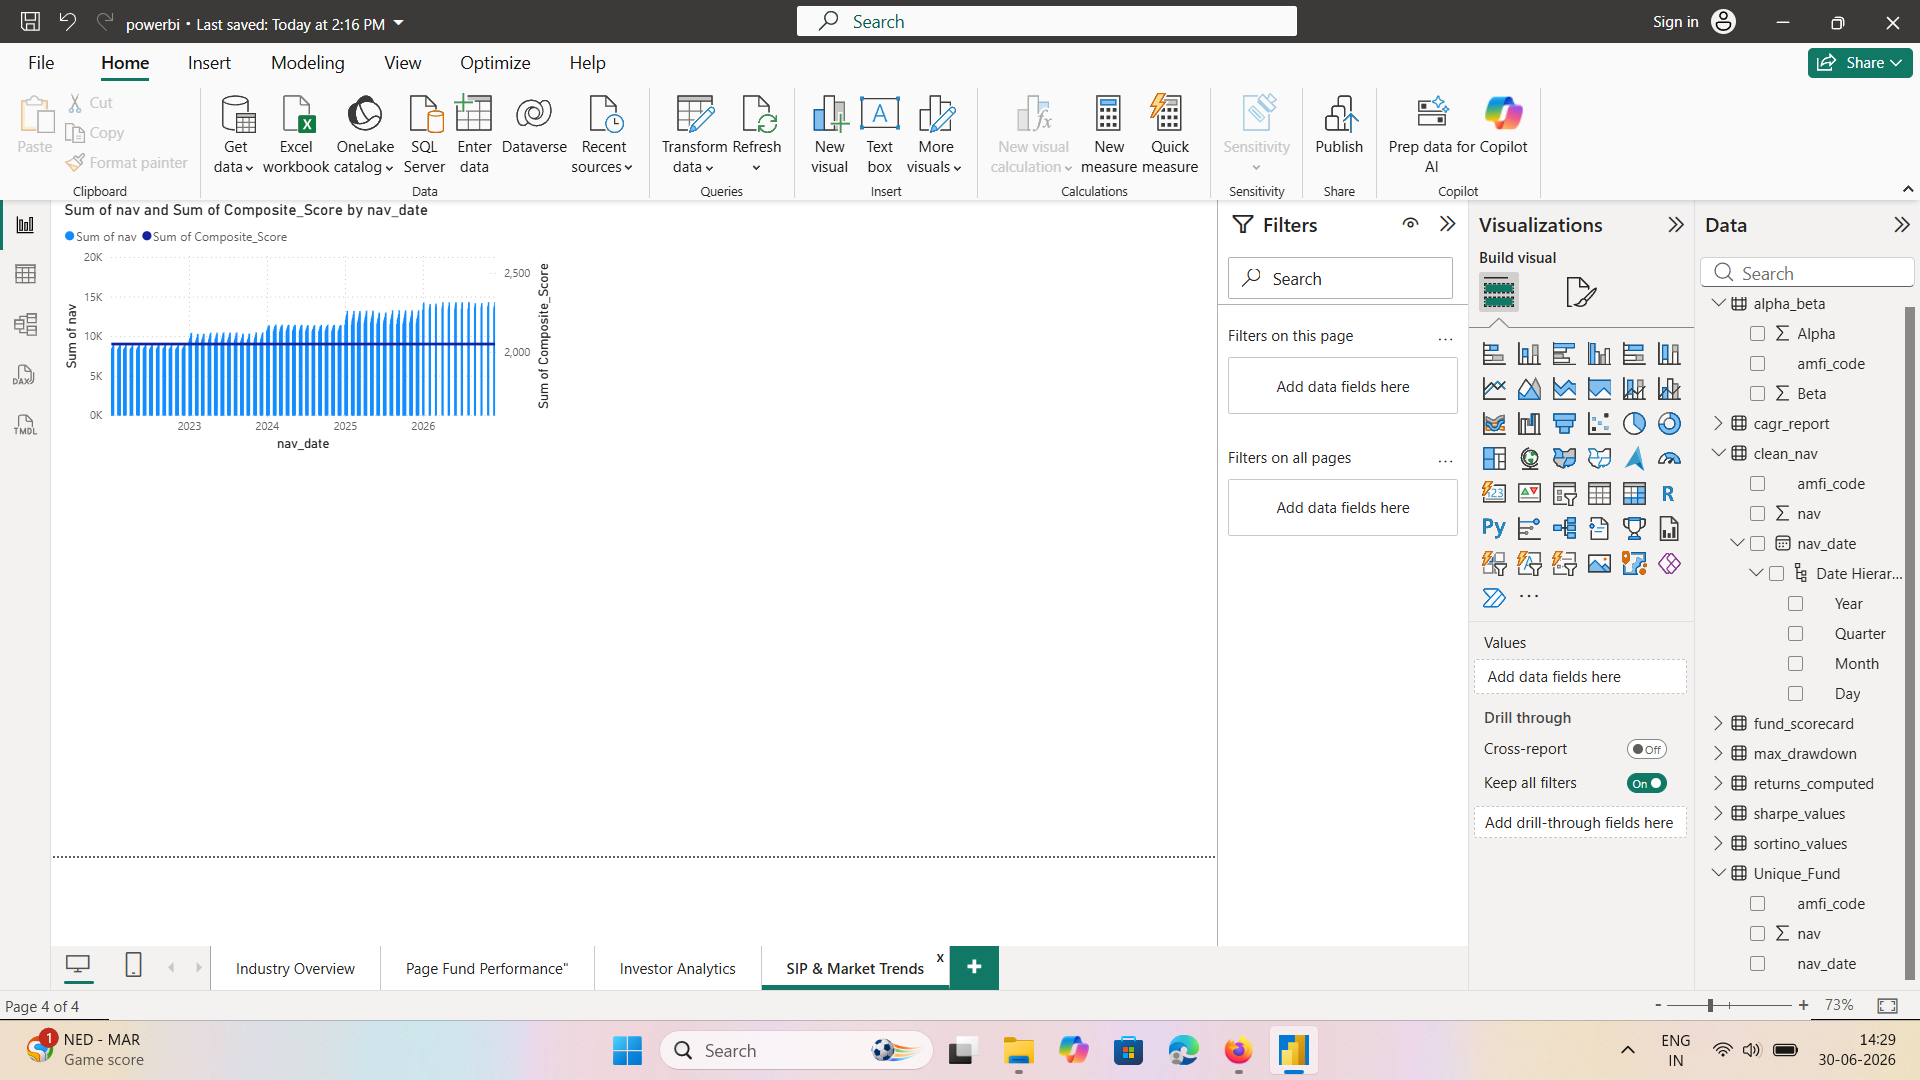

What the dashboard file says about the page in this screenshot:
{"tool":"powerbi","page":{"name":"SIP & Market Trends","canvas":[1280,720],"ordinal":3},"visuals":[{"type":"lineClusteredColumnComboChart","fields":{"Category":["clean_nav.nav_date"],"Y":["Sum(clean_nav.nav)"],"Y2":["Sum(fund_scorecard.Composite_Score)"]},"box":[10,0,543.8,280],"z":0}]}

Visuals, with their boxes on the page's 1280x720 design canvas (x1, y1, x2, y2). These are canvas units, not pixel positions in the 1920x1080 screenshot, which may show the page scaled, cropped or inside an application window:
lineClusteredColumnComboChart - clean_nav.nav_date x Sum(clean_nav.nav): [x1=10, y1=0, x2=554, y2=280]
